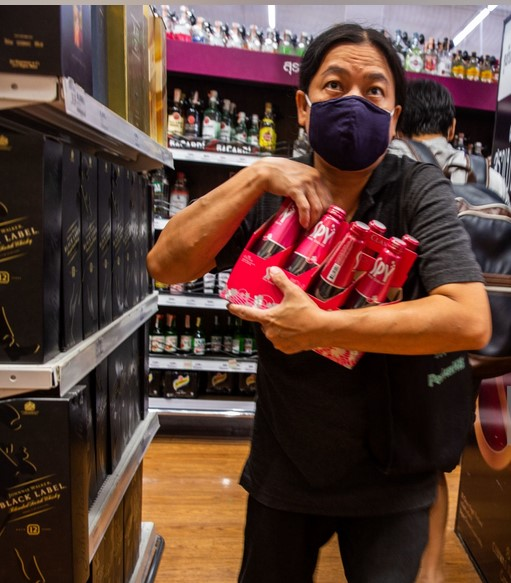face_with_mask: (294, 27, 406, 166)
